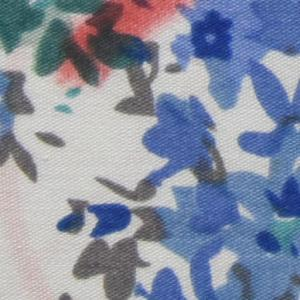Stain: (52, 1, 202, 96), (1, 156, 62, 300)
